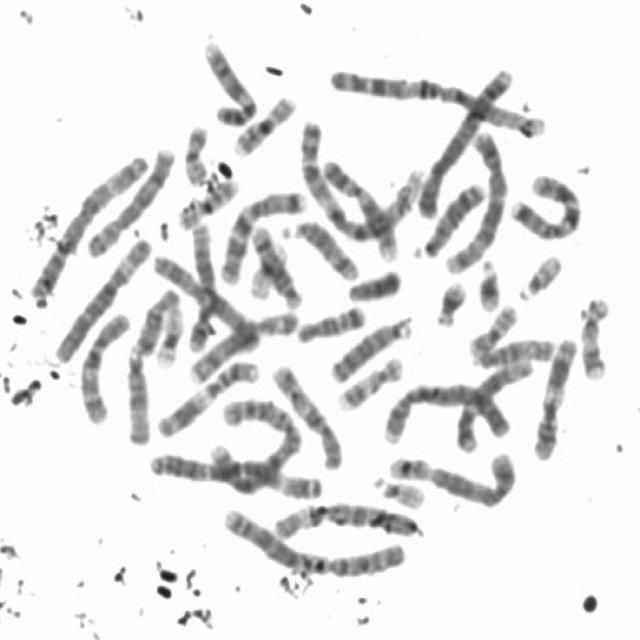A1: (325, 59, 552, 142), (292, 110, 426, 246)
A2: (216, 498, 411, 580), (146, 390, 305, 490)
A3: (26, 150, 151, 302), (202, 439, 324, 501)
B4: (414, 61, 518, 218), (381, 376, 514, 444)
B5: (438, 125, 511, 277), (384, 441, 520, 510)
C10: (266, 355, 346, 472), (73, 305, 134, 427)
C11: (150, 354, 262, 440), (528, 330, 581, 462)
C12: (452, 351, 535, 455), (183, 215, 218, 354)
C6: (49, 230, 154, 364), (266, 494, 424, 543)
C7: (214, 182, 309, 286), (504, 167, 584, 243)
C8: (80, 140, 177, 260), (184, 304, 300, 386)
C9: (318, 152, 402, 263), (198, 34, 259, 129)
D13: (410, 174, 488, 262), (325, 310, 416, 385)
D14: (278, 213, 362, 281), (245, 220, 304, 310)
D15: (120, 339, 153, 448), (468, 330, 557, 369)
E16: (229, 88, 299, 158), (173, 172, 240, 230)
E17: (331, 350, 406, 412), (575, 289, 614, 384)
E18: (131, 285, 184, 359), (292, 298, 369, 344)
F19: (245, 236, 290, 301), (150, 292, 186, 371)
F20: (464, 297, 521, 356), (179, 118, 213, 187)
G21: (429, 274, 469, 328), (472, 251, 504, 313)
G22: (512, 247, 566, 302), (368, 469, 428, 510)
X: (146, 246, 264, 355)
Y: (342, 263, 404, 303)
